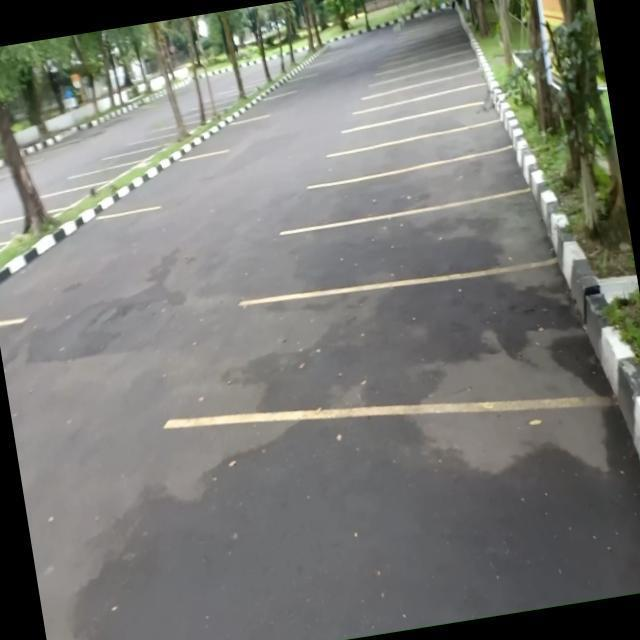Vacant: (247, 251, 594, 443), (282, 186, 555, 302), (314, 148, 529, 227), (329, 123, 512, 183), (344, 104, 503, 149), (142, 156, 218, 211), (199, 119, 256, 157), (238, 95, 289, 122)
